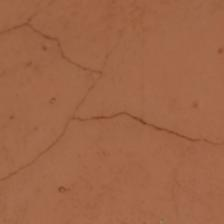Crack: (24, 0, 126, 109), (30, 65, 77, 156), (67, 82, 111, 135)
